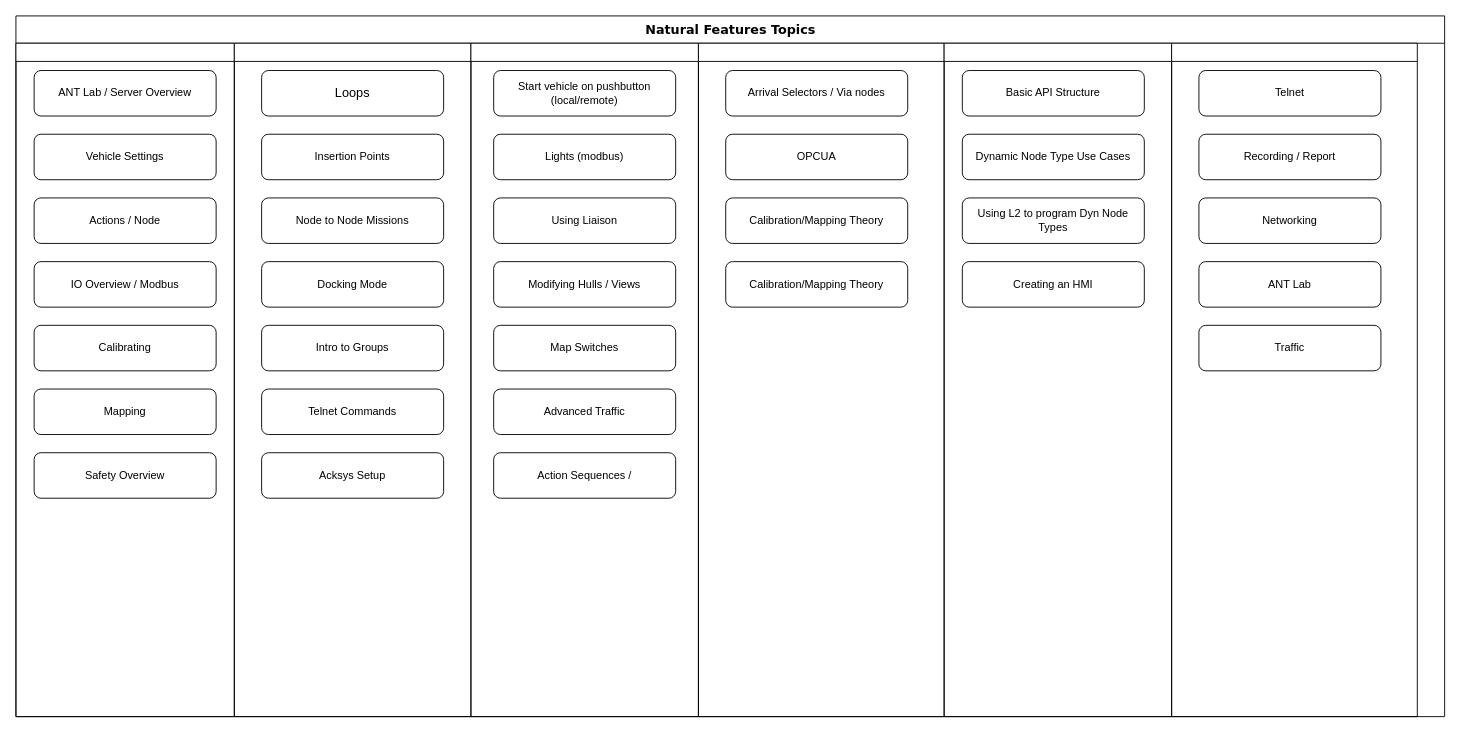
Some shapes in this 1461 by 733 pixel diagram are drawn without their labels. The shapes that lost their labels are listed below. From the top down, each one's box as (x1, y1, x2, y2) in pixels, then its label:
(15, 42, 234, 717): Introduction
(233, 42, 471, 717): Basics - Loops / Routing
(470, 42, 698, 717): Intermediate - IO / Liaison
(698, 42, 944, 717): Advanced - Devices, Routing
(943, 42, 1172, 717): API / Dynamic Node Types
(1171, 42, 1417, 717): Troubleshooting
